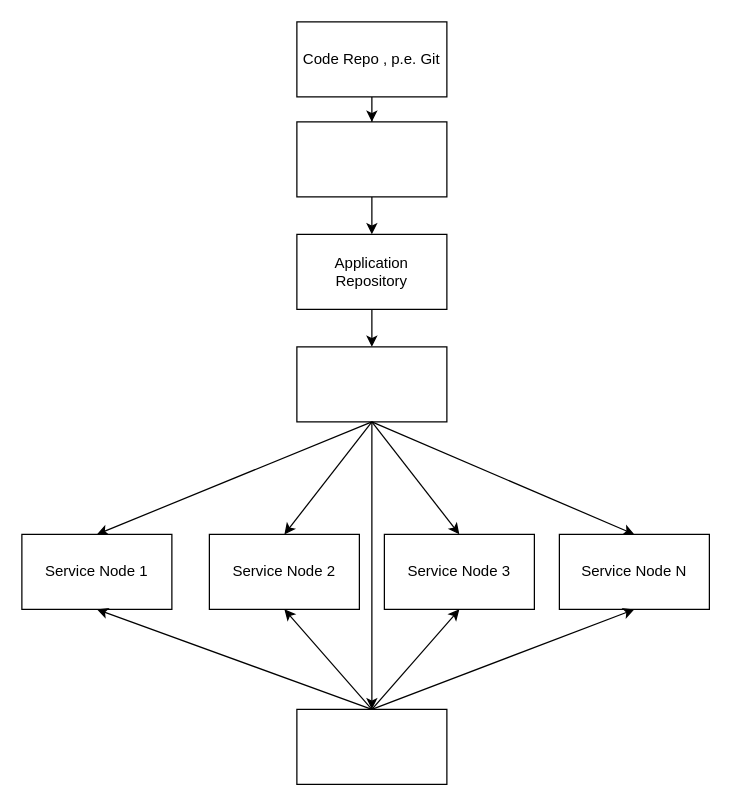
The diagram is 731 pixels wide and 806 high, and some of its shapes have lost their labels. The shapes that lost their labels are listed below. From the top down, each one's centre as x and y in pixels, then its label:
At (x=371, y=159): "CICD Build Pipeline".
At (x=371, y=384): "Base Container".
At (x=371, y=746): "Load Balancer".
